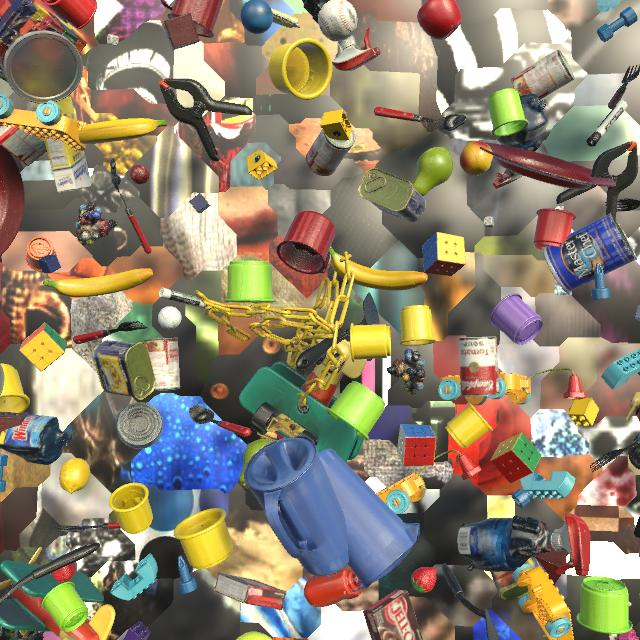ycb_002_master_chef_can: (543, 213, 637, 293)
ycb_004_sugar_box: (36, 96, 92, 193)
ycb_005_tomato_soup_can: (511, 50, 575, 100), (458, 336, 500, 397), (306, 129, 355, 176), (143, 338, 180, 391)
ycb_007_tuna_fish_can: (117, 402, 163, 449)
ycb_008_pudding_box: (363, 589, 423, 640), (214, 573, 287, 610)
ycb_009_gelatin_box: (0, 109, 47, 166)
ycb_010_potted_meat_can: (92, 340, 156, 400), (358, 168, 426, 222), (490, 557, 546, 601)
ycb_011_banana: (328, 247, 428, 291), (43, 268, 153, 297), (79, 118, 167, 144)
ycb_012_strawberry: (52, 555, 76, 583), (411, 567, 436, 593)
ycb_013_apple: (417, 0, 462, 40)
ycb_014_lemon: (59, 458, 90, 494)
ycb_015_peach: (459, 141, 493, 176)
ycb_016_pear: (412, 147, 453, 197), (239, 439, 273, 488)
